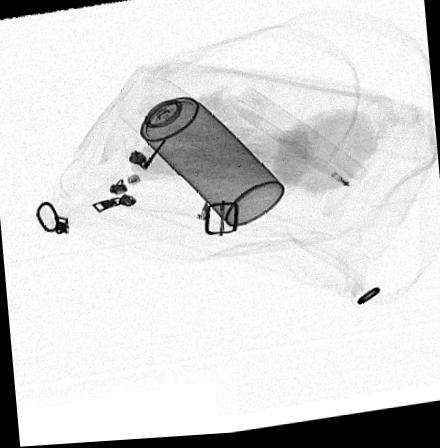Sprayer: (116, 76, 283, 230)
